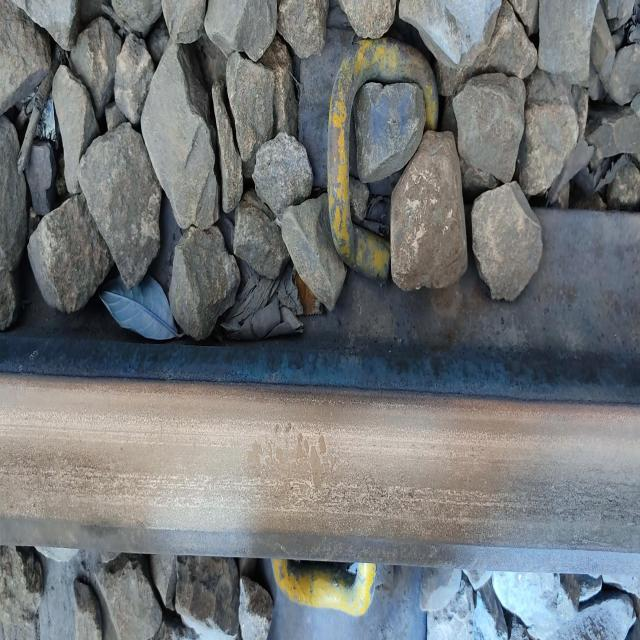Good Fasteners: (254, 28, 467, 311), (300, 30, 438, 281), (272, 559, 377, 616)
